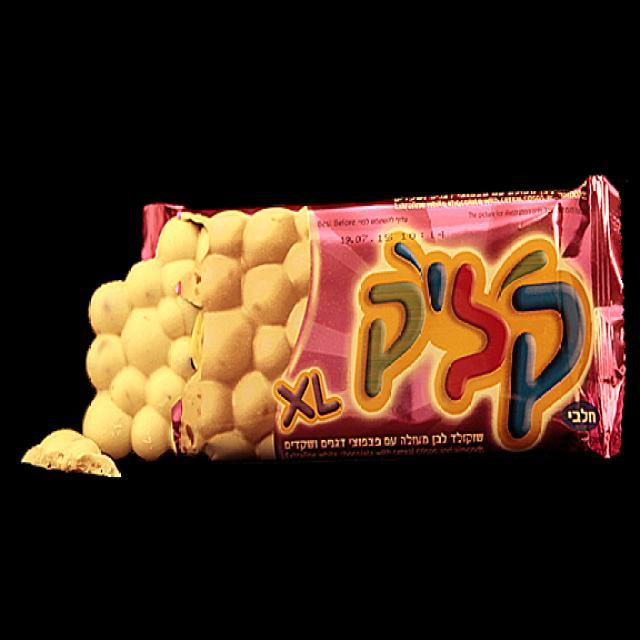Chocolate bar: (142, 202, 628, 460)
Chocolate bar packaged: (20, 214, 164, 491)
